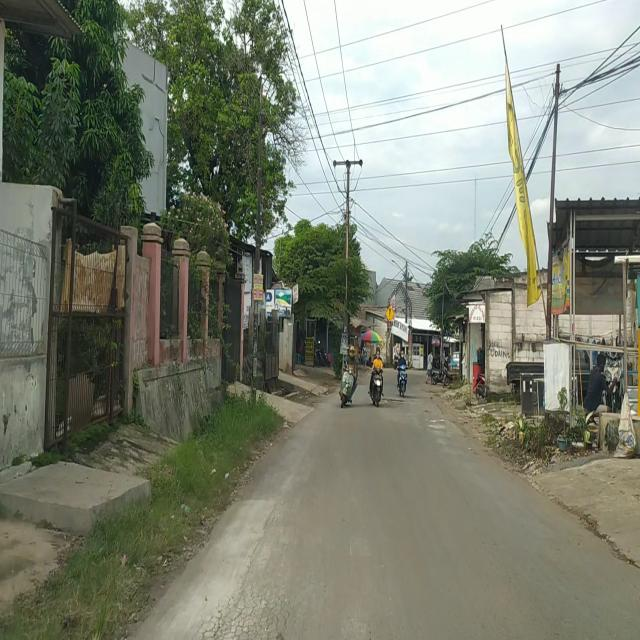Drain Hole: (188, 585, 310, 640)
